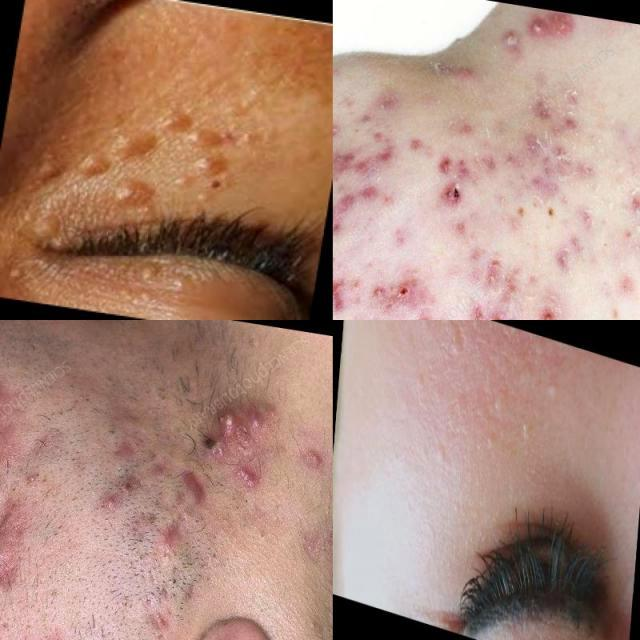Pimples: (7, 90, 244, 270), (462, 234, 550, 320), (182, 374, 263, 456), (509, 130, 578, 206), (332, 132, 410, 193), (415, 144, 475, 218), (333, 180, 388, 254), (333, 252, 365, 320), (177, 463, 212, 515), (513, 6, 559, 44), (226, 458, 261, 494), (543, 374, 563, 404), (0, 534, 14, 568)
